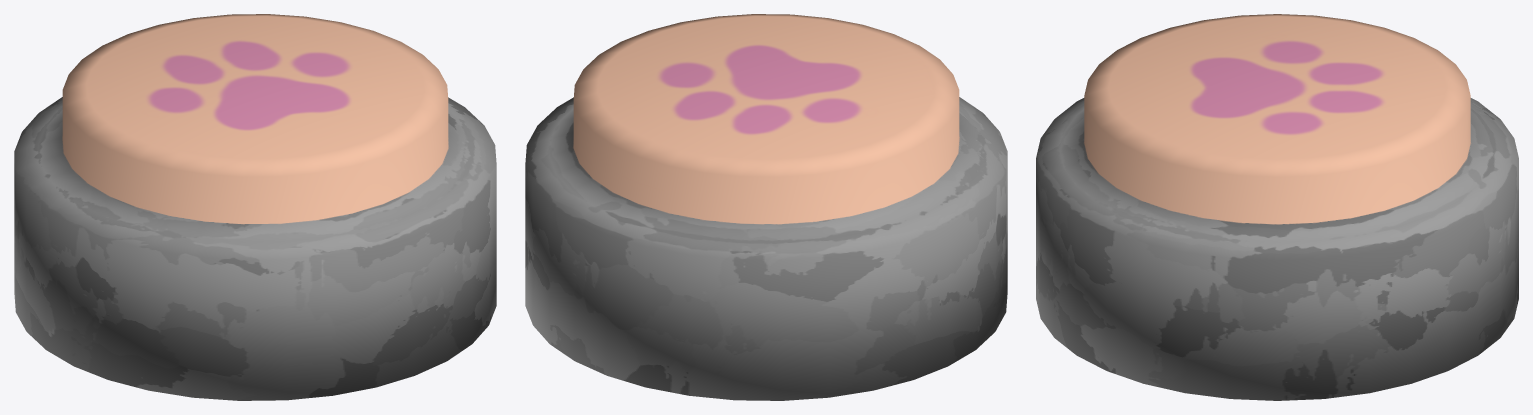
The model's file is fluffulis simple button.fbx.
3 views of the same model, side by side, from view 1: azimuth 30°, elevation 25°; view 2: azimuth 150°, elevation 25°; view 3: azimuth 270°, elevation 25° (orthographic).
Parts seen in each view (by area): view 1: simple button; view 2: simple button; view 3: simple button.
Part boxes in pixels (box(x1,y1,x2,y2)): simple button: box(14, 14, 496, 400); simple button: box(525, 14, 1007, 400); simple button: box(1036, 14, 1518, 400).
Bounding box in the file's own units: 50 × 25 × 50.
1 material, 1 textured.
